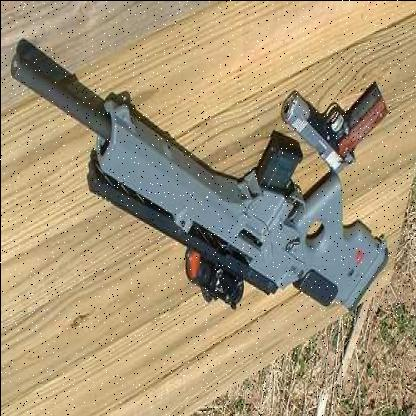rifle: (7, 42, 387, 340)
